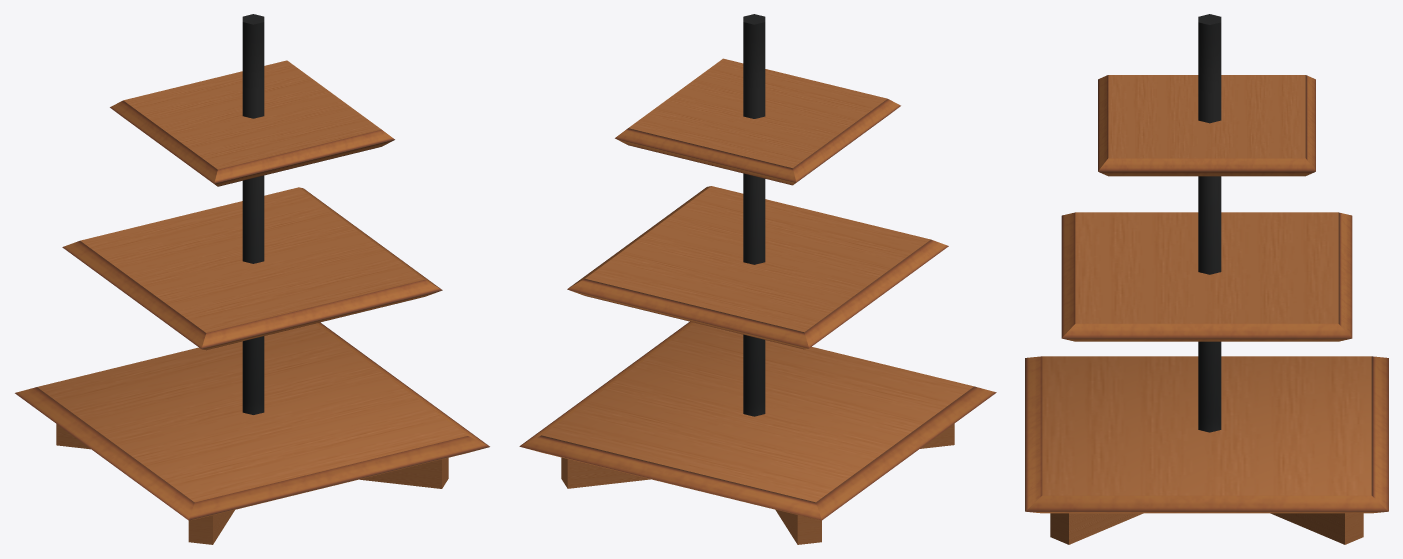
The model's file is Cupcake_Stand_A.FBX.
The picture shows the model from 3 angles, left to right: view 1: azimuth 30°, elevation 25°; view 2: azimuth 150°, elevation 25°; view 3: azimuth 270°, elevation 25°; orthographic projection. The views are drawn at different scales.
Visible parts, largest first — view 1: Cupcake_Stand; view 2: Cupcake_Stand; view 3: Cupcake_Stand.
Boxes of the visible parts, left/top/right/bottom form: Cupcake_Stand: left=15, top=14, right=489, bottom=544; Cupcake_Stand: left=519, top=14, right=996, bottom=544; Cupcake_Stand: left=1025, top=14, right=1388, bottom=544.
Size of the model in its own units: 110 by 154 by 110.
